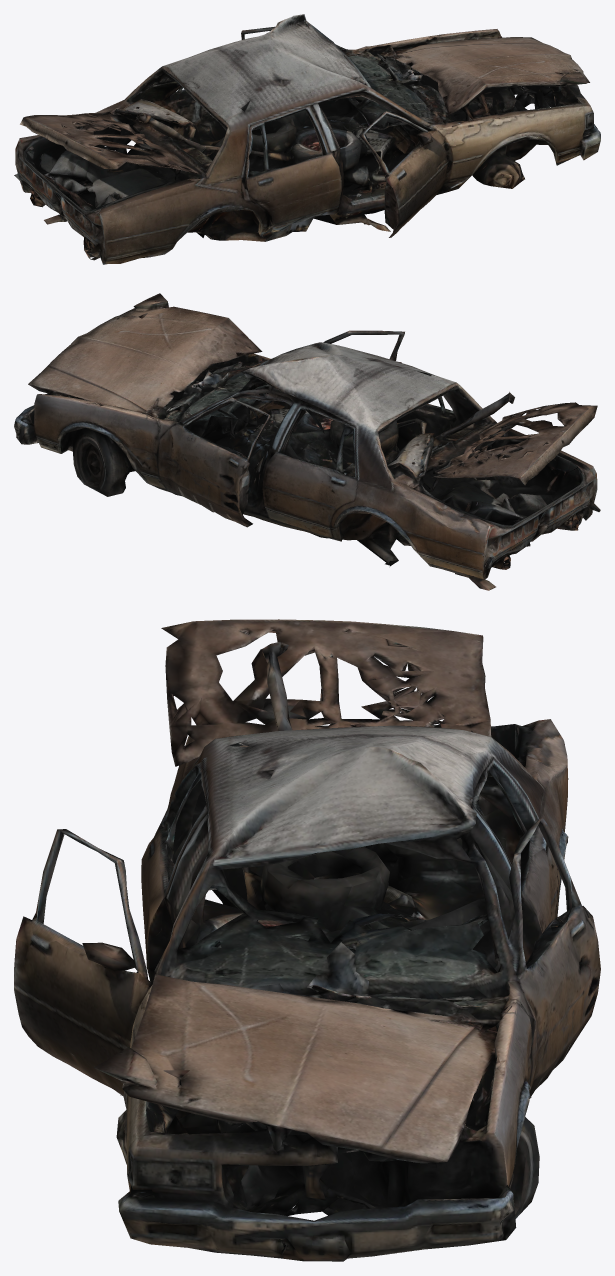
File: destroyed_car.glb
3 views of the same model, one above another, from view 1: azimuth 30°, elevation 25°; view 2: azimuth 150°, elevation 25°; view 3: azimuth 270°, elevation 25° (orthographic). The views are drawn at different scales.
Visible parts, largest first — view 1: Box001_caprice_low_Material_u1_v1_0; view 2: Box001_caprice_low_Material_u1_v1_0; view 3: Box001_caprice_low_Material_u1_v1_0.
Boxes of the visible parts, x1,y1,x2,y2 form: Box001_caprice_low_Material_u1_v1_0: (14, 14, 600, 264); Box001_caprice_low_Material_u1_v1_0: (14, 293, 600, 590); Box001_caprice_low_Material_u1_v1_0: (14, 619, 600, 1261).
Size of the model in its own units: 3.15 by 0.9577 by 1.64.
1 material, 1 textured.
